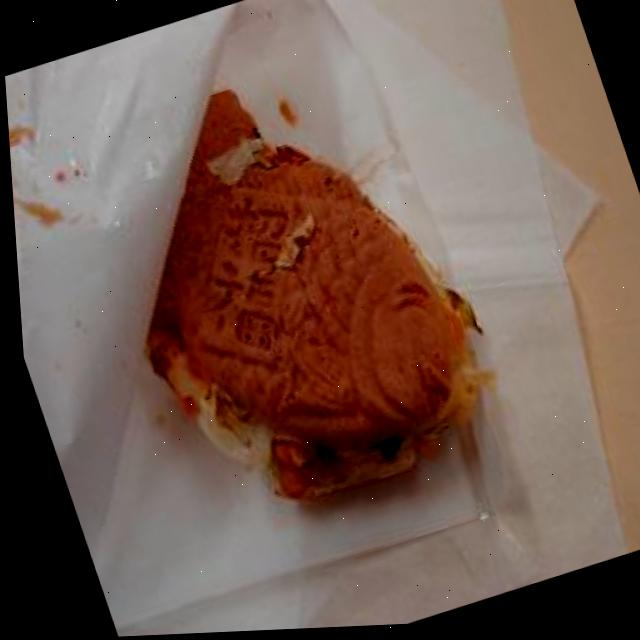熟制海鲜: (38, 30, 547, 562)
